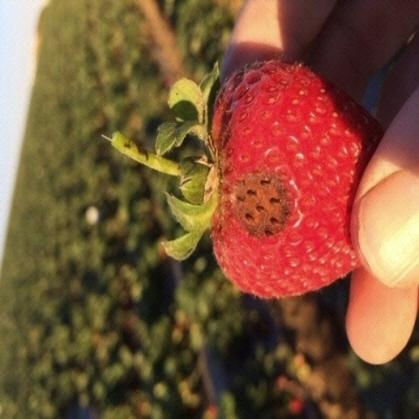Anthracnose Fruit Rot: (228, 171, 298, 238)
